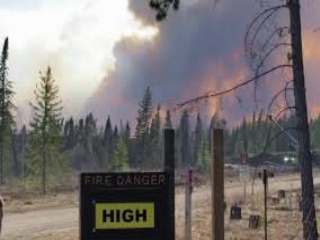smoke: (82, 26, 165, 130)
